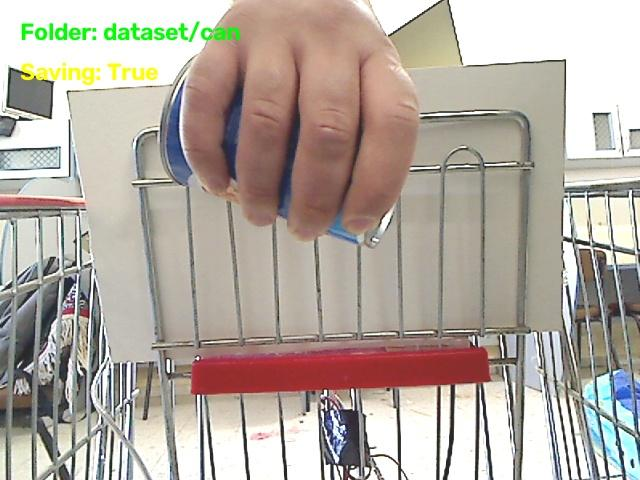can: (159, 69, 195, 185), (328, 210, 392, 247), (278, 118, 298, 217), (222, 90, 241, 179)
